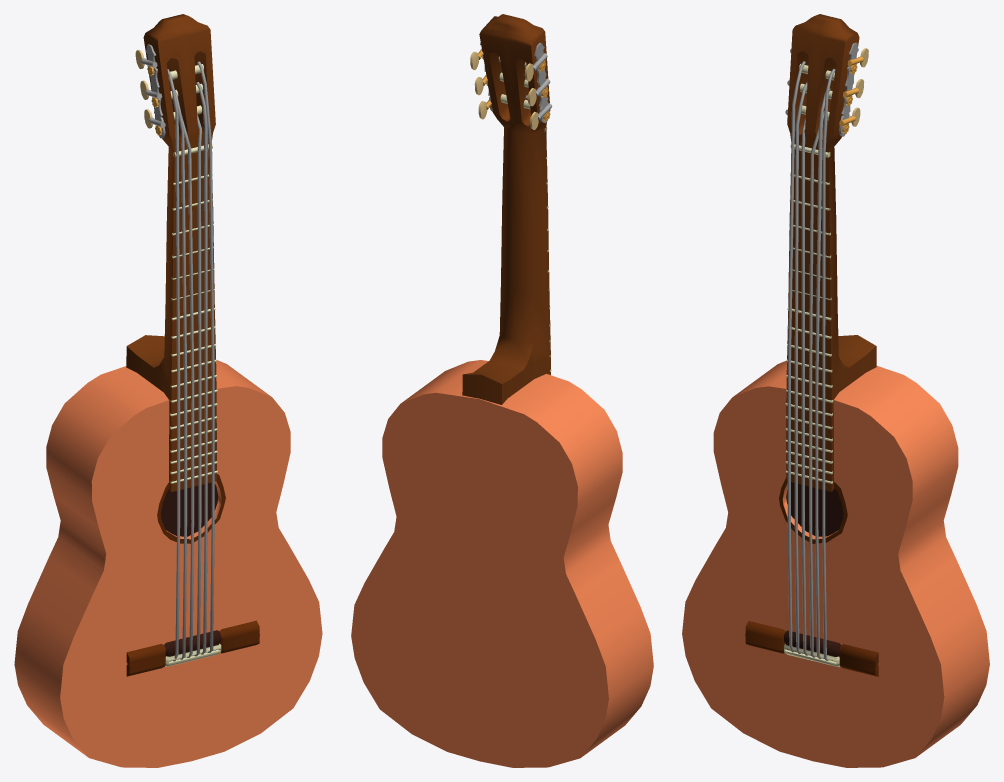
The model's file is guitar.fbx.
3 views of the same model, side by side, from view 1: azimuth 30°, elevation 25°; view 2: azimuth 150°, elevation 25°; view 3: azimuth 330°, elevation 25° (orthographic).
Parts seen in each view (by area): view 1: kitara; view 2: kitara; view 3: kitara.
Boxes of the visible parts, x1,y1,x2,y2 form: kitara: (14, 14, 322, 767); kitara: (351, 14, 653, 767); kitara: (682, 14, 989, 767).
Bounding box in the file's own units: 194 × 520 × 66.8.
